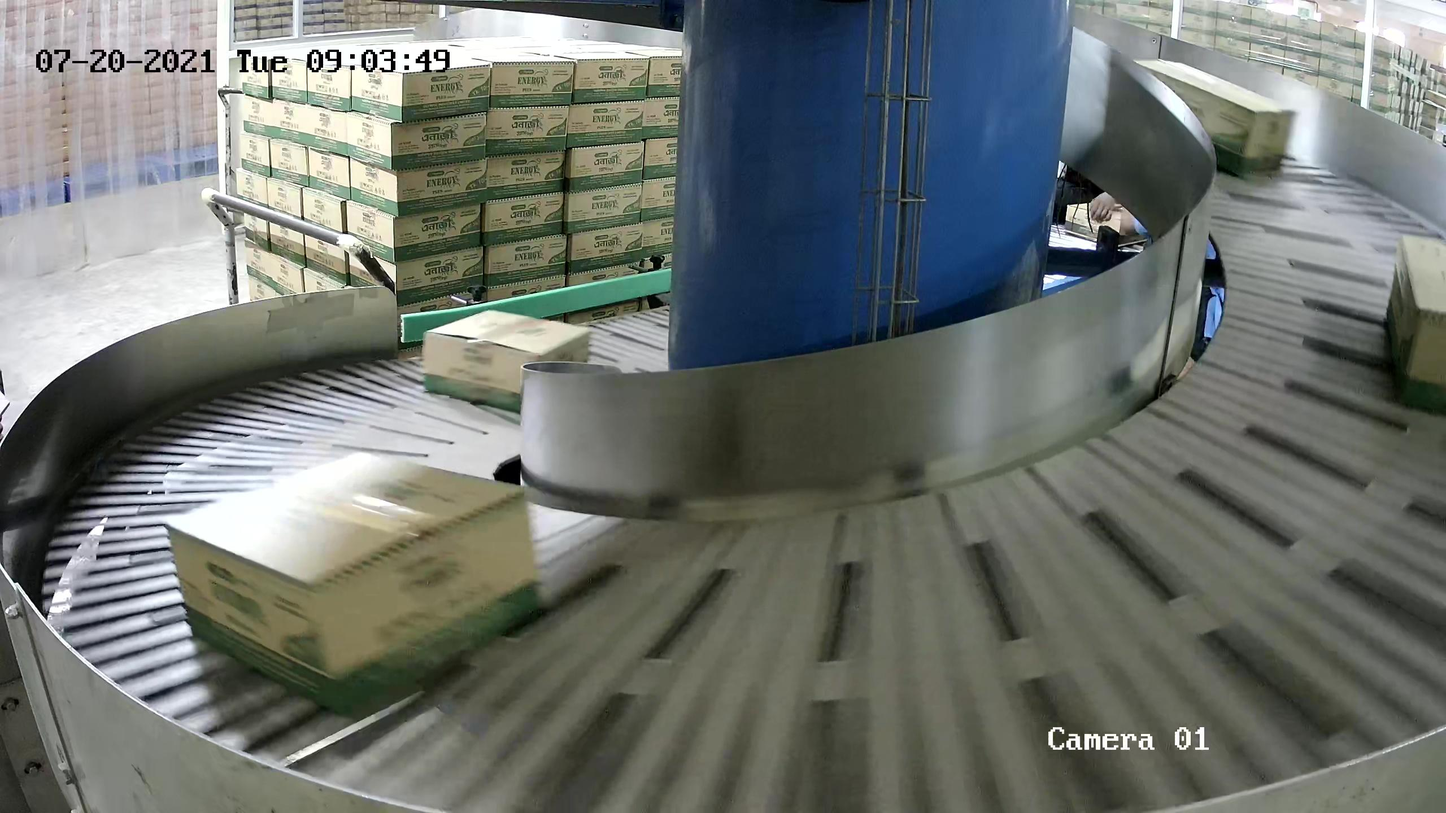Box: (166, 451, 541, 721), (1117, 59, 1298, 179), (422, 309, 591, 414), (1385, 233, 1446, 419)
